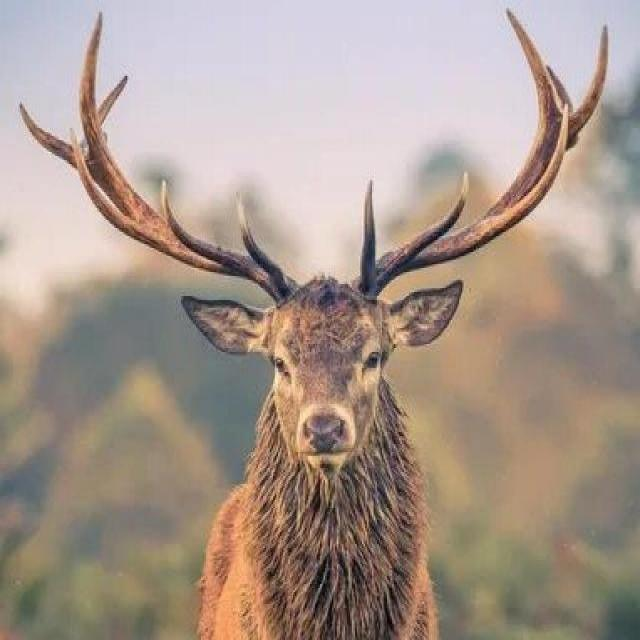deer: (88, 83, 530, 574)
